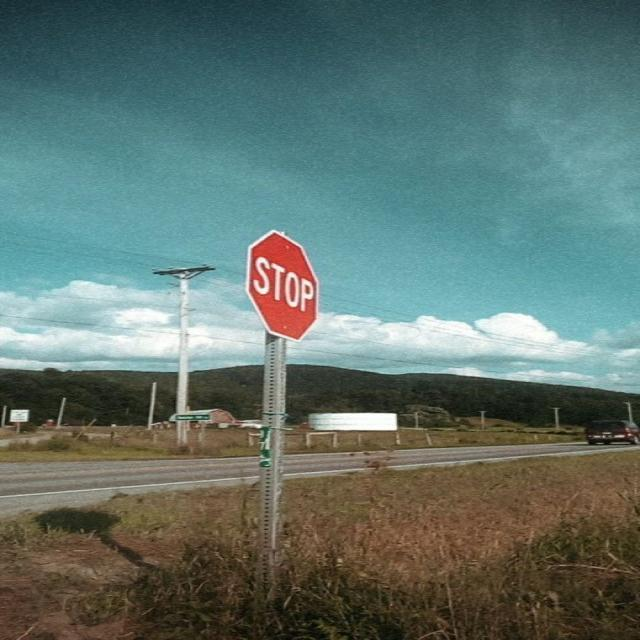stop: (244, 228, 319, 342)
